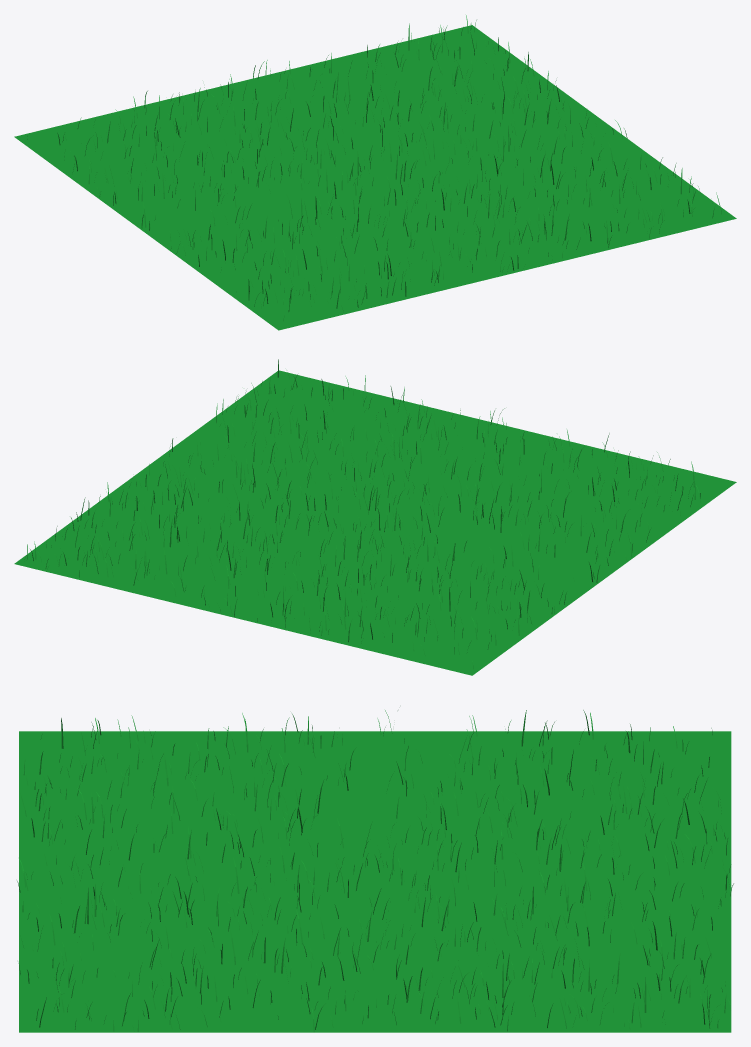
Rendered from Grass.fbx.
3 views of the same model, one above another, from view 1: azimuth 30°, elevation 25°; view 2: azimuth 150°, elevation 25°; view 3: azimuth 270°, elevation 25° (orthographic). The views are drawn at different scales.
Visible parts, largest first — view 1: ground; view 2: ground; view 3: ground.
Boxes of the visible parts, <box> form: ground: <box>14,25,736,330</box>; ground: <box>14,370,736,675</box>; ground: <box>19,731,731,1032</box>.
Size of the model in its own units: 1830 by 100 by 1857.
